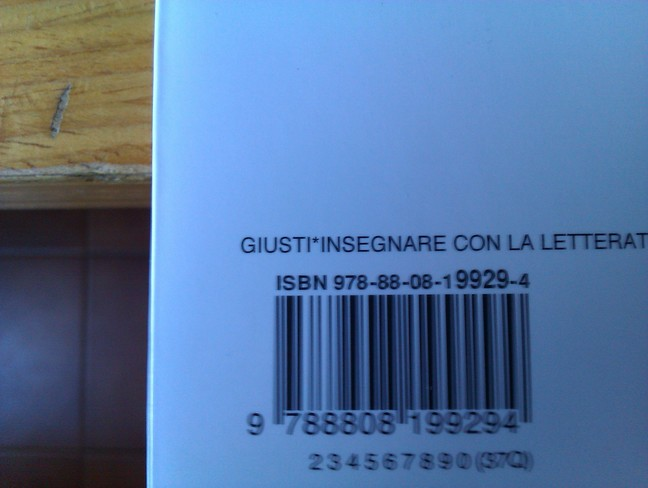detection: (232, 263, 539, 450)
